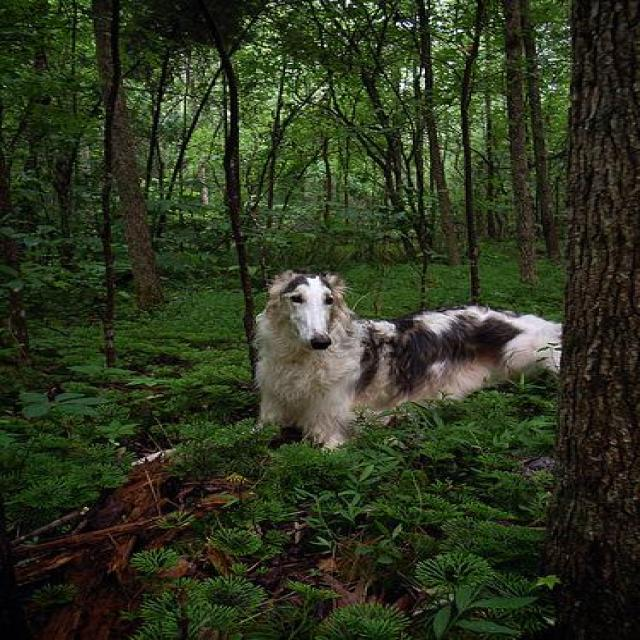dog: (236, 244, 569, 466)
